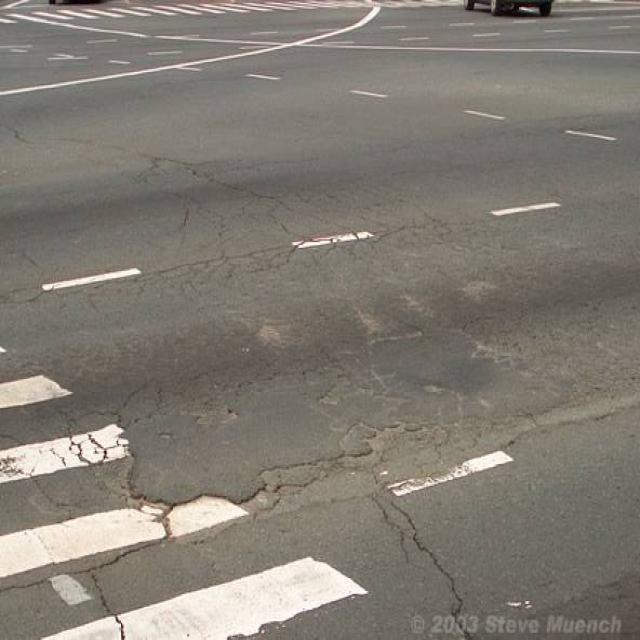Pothole: (87, 380, 516, 640)
